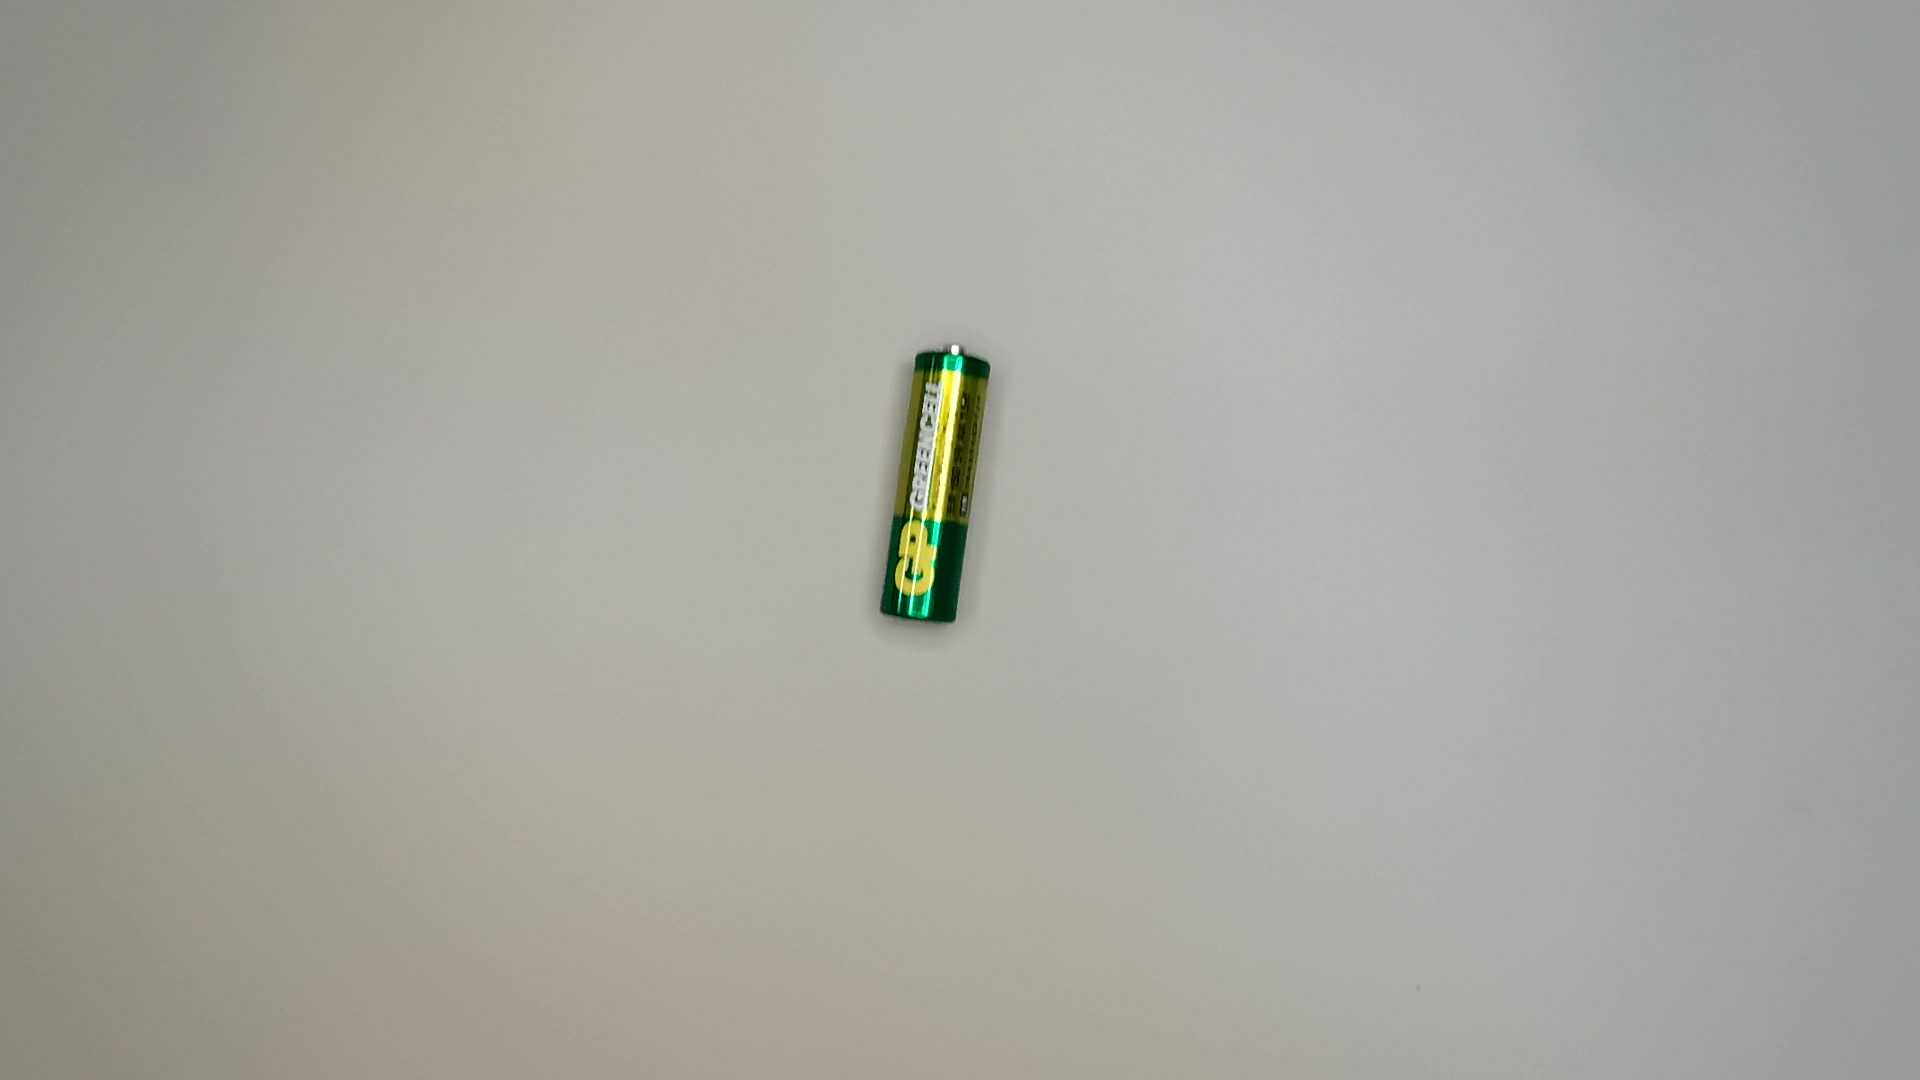battery: (869, 339, 996, 634)
